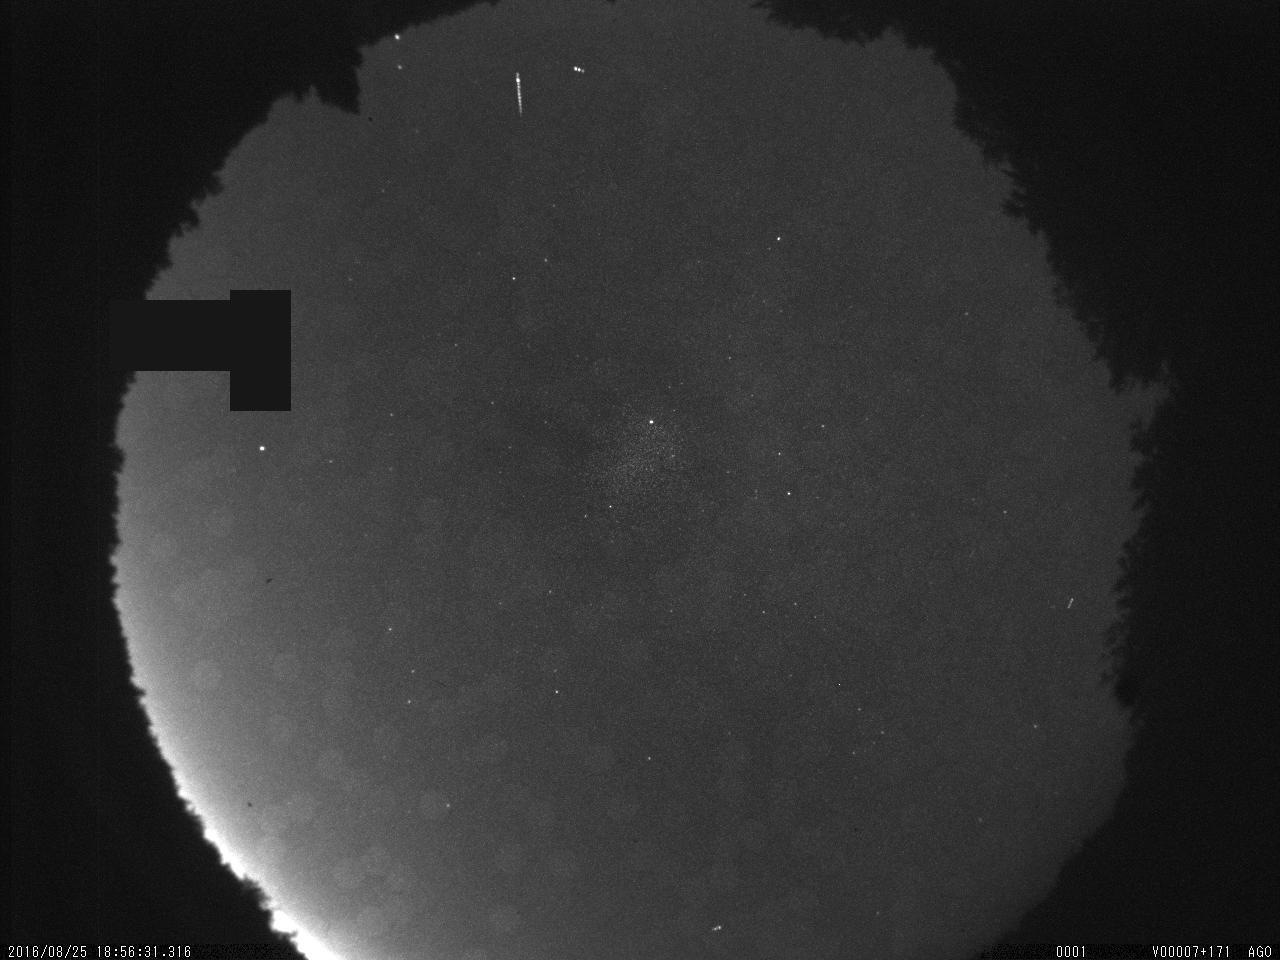meteor: (508, 70, 534, 121)
